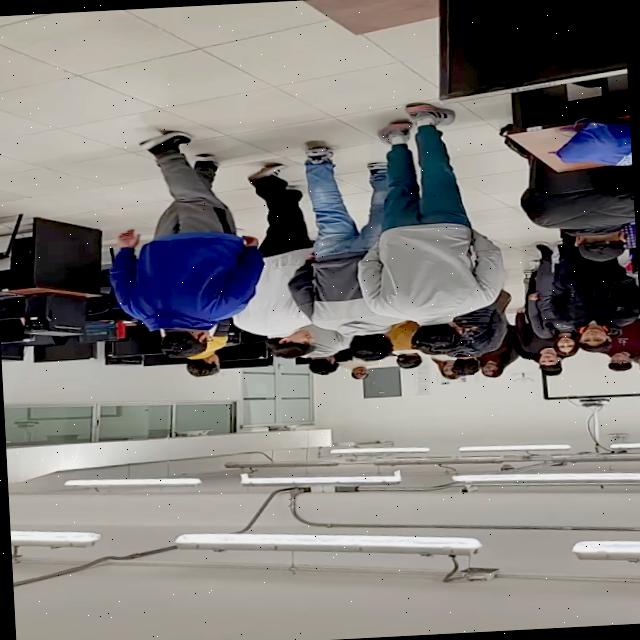Persona: (386, 98, 504, 358), (116, 141, 238, 357), (308, 156, 388, 365), (240, 178, 315, 356), (554, 248, 636, 352), (536, 281, 578, 355), (601, 320, 640, 371), (520, 335, 556, 372), (336, 360, 382, 382), (635, 340, 640, 388)
